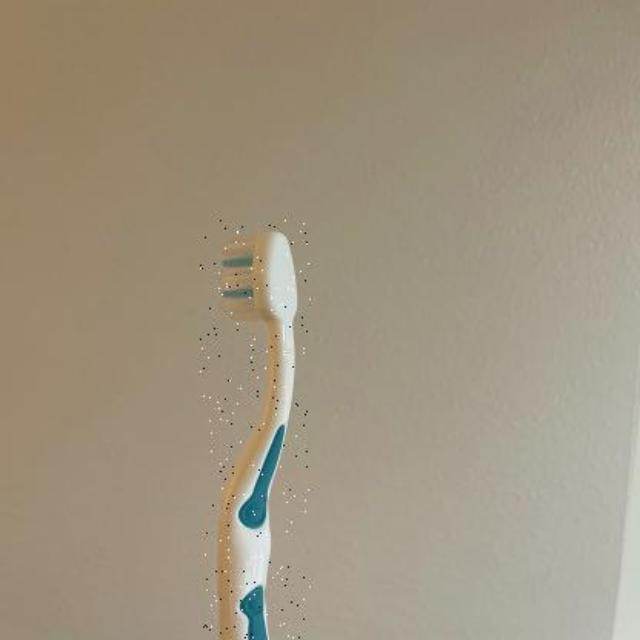toothbrush: (200, 218, 310, 640)
